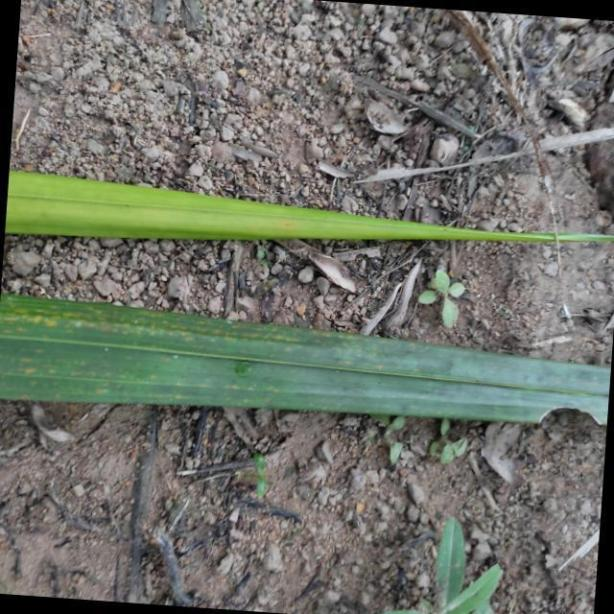nitrogen: (1, 155, 614, 243)
